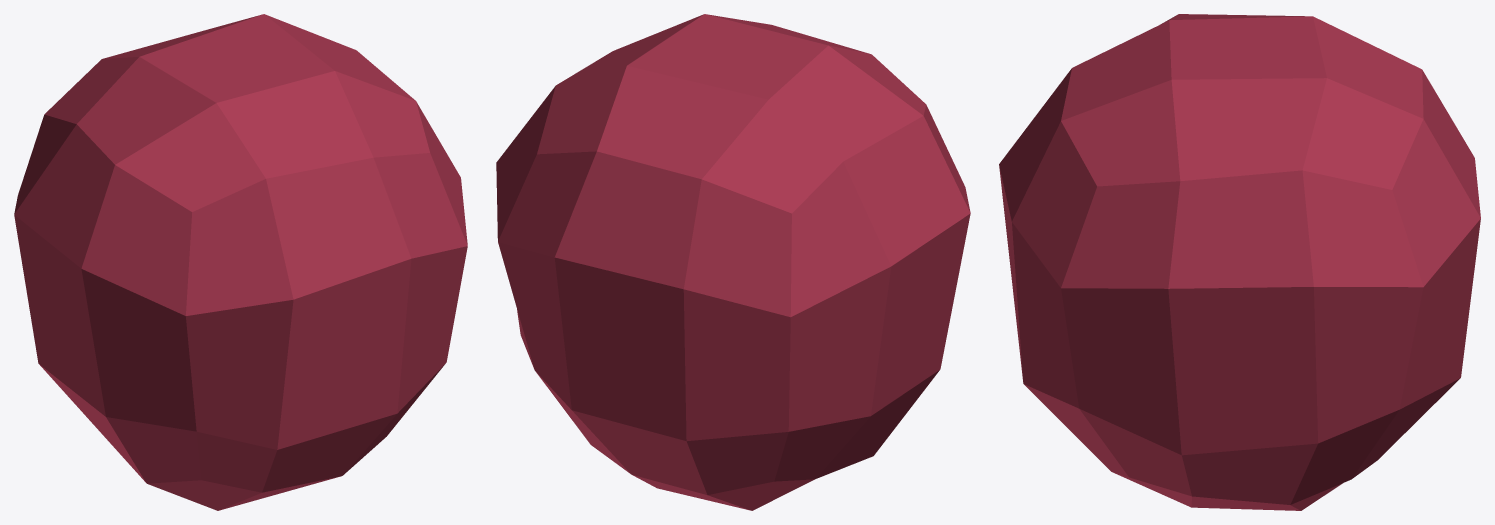
The model's file is frambuesa.fbx.
The picture shows the model from 3 angles, left to right: view 1: azimuth 30°, elevation 25°; view 2: azimuth 150°, elevation 25°; view 3: azimuth 270°, elevation 25°; orthographic projection. The views are drawn at different scales.
Parts seen in each view (by area): view 1: frambuesa; view 2: frambuesa; view 3: frambuesa.
Part boxes in pixels (box(x1,y1,x2,y2)): frambuesa: box(14, 14, 467, 510); frambuesa: box(496, 14, 970, 510); frambuesa: box(999, 14, 1480, 510).
Bounding box in the file's own units: 2.5 × 2.54 × 2.51.
